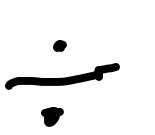div: (4, 39, 120, 129)
